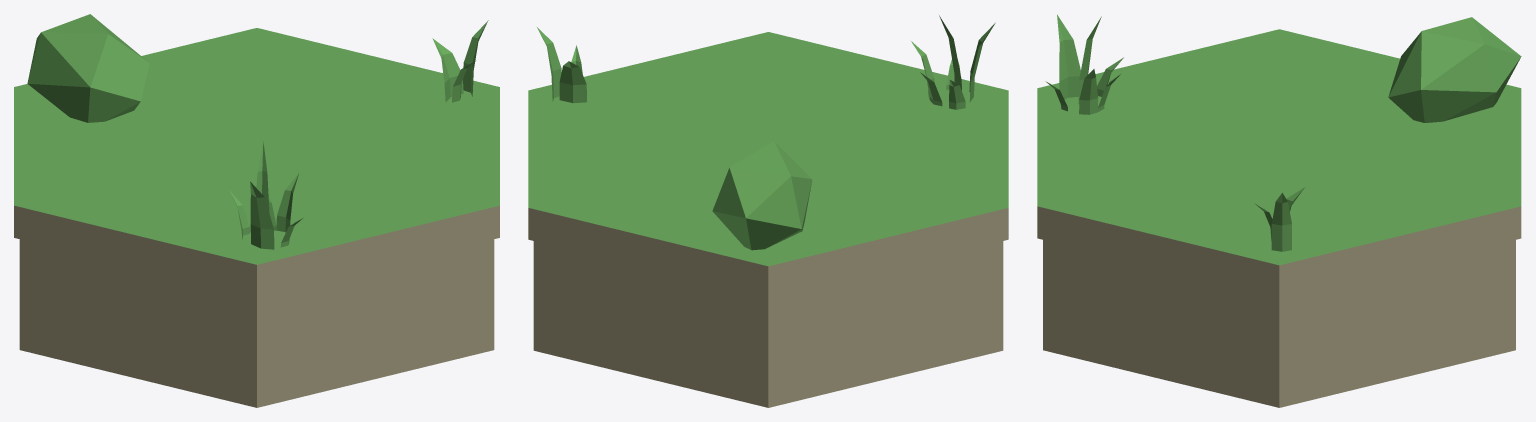
File: Grass_Tile.fbx
3 views of the same model, side by side, from view 1: azimuth 30°, elevation 25°; view 2: azimuth 150°, elevation 25°; view 3: azimuth 270°, elevation 25° (orthographic).
Parts seen in each view (by area): view 1: polySurface17; view 2: polySurface17; view 3: polySurface17.
Part boxes in pixels (bbox=[...]): polySurface17: bbox=[14, 14, 499, 407]; polySurface17: bbox=[528, 15, 1008, 407]; polySurface17: bbox=[1037, 14, 1521, 407].
Size of the model in its own units: 9.25 by 4.32 by 8.01.
